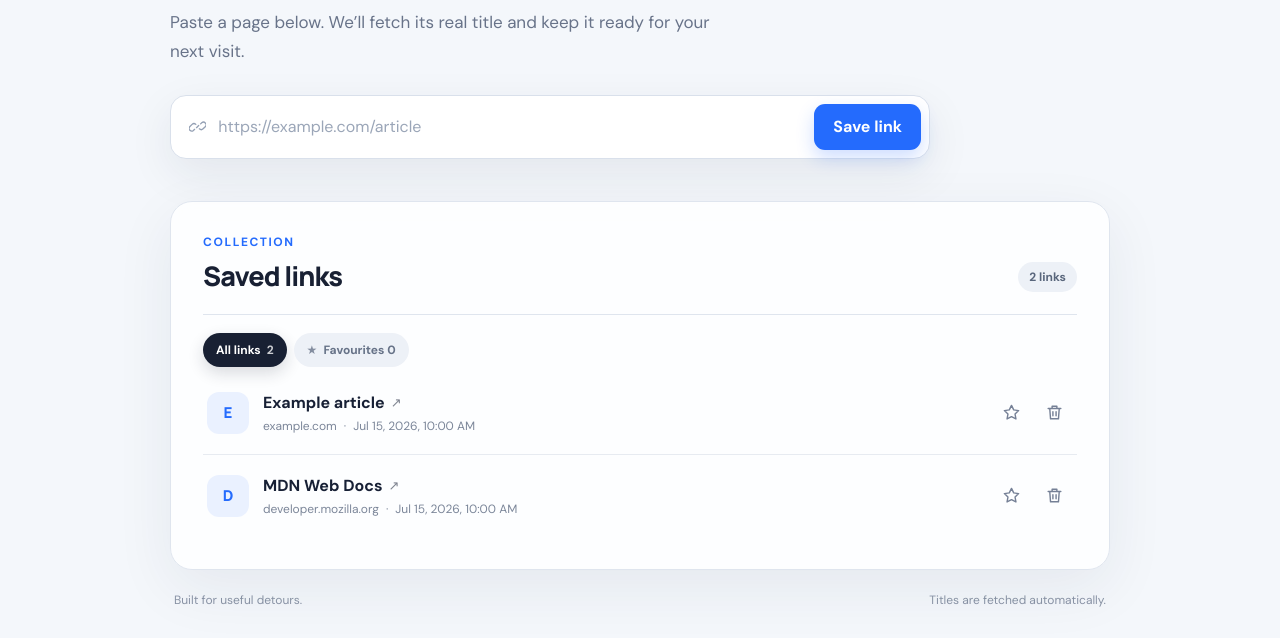
Test: App core link flow › keeps every in-flight favourite action disabled independently
(page scrolled)
Expected: the link "MDN Web Docs ↗" is shown, [263,475,399,496]
Click the button named "Add Example article to favourites" at x=1011, y=413, box [992,394,1030,432]
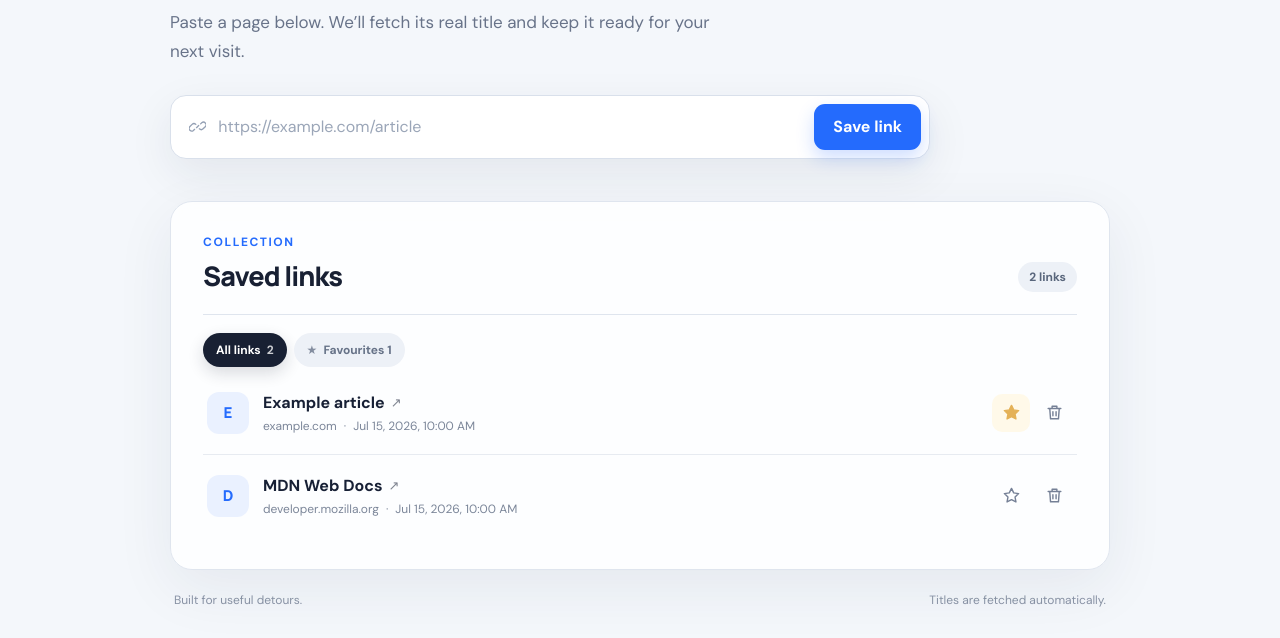
Click the button named "Add MDN Web Docs to favourites" at x=1011, y=496, box [992,477,1030,515]
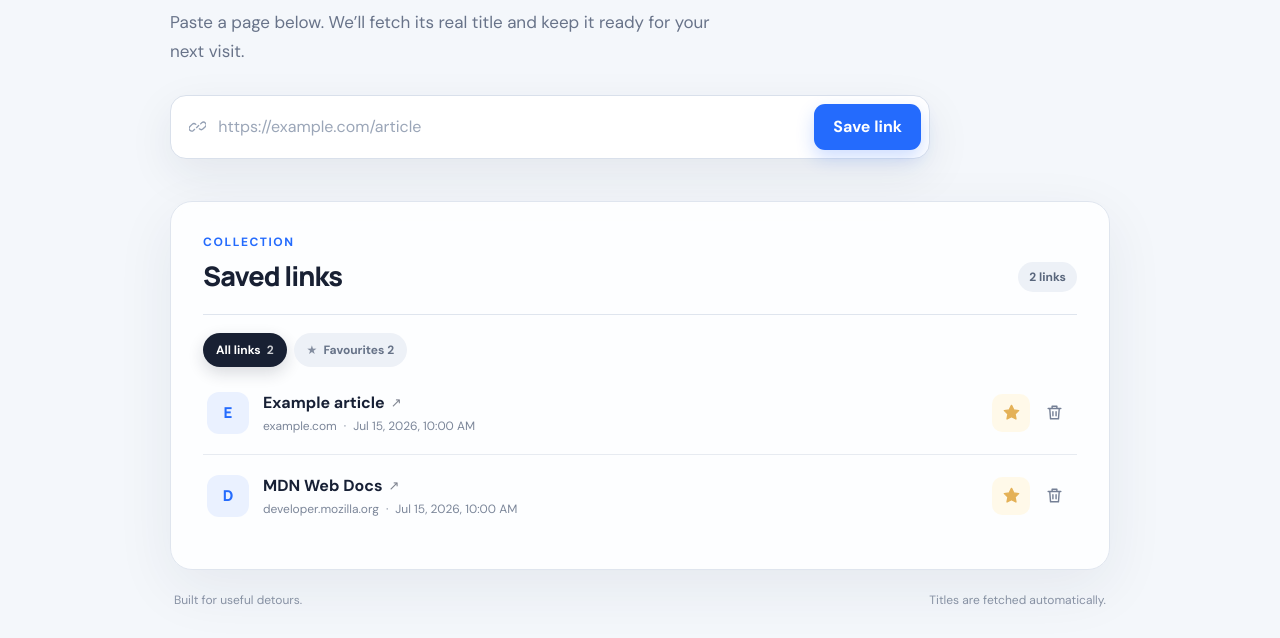
Expected: the button named "Remove Example article from favourites" is disabled, [992,394,1030,432]
Expected: the button named "Remove MDN Web Docs from favourites" is disabled, [992,477,1030,515]
